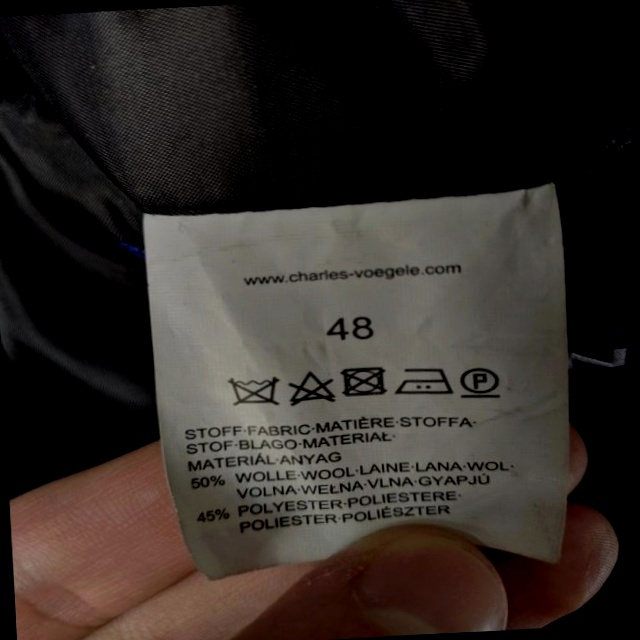DN_bleach: (286, 366, 336, 408)
DN_tumble_dry: (337, 361, 390, 402)
DN_wash: (226, 371, 283, 411)
dry_clean_any_solvent_except_trichloroethylene: (455, 362, 505, 403)
iron_medium: (394, 363, 453, 400)
